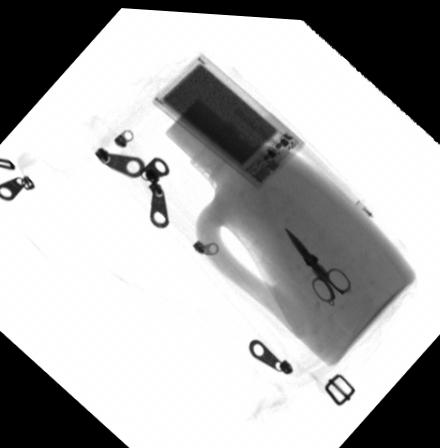Powerbank: (151, 49, 305, 186)
Scissors: (282, 220, 352, 303)
